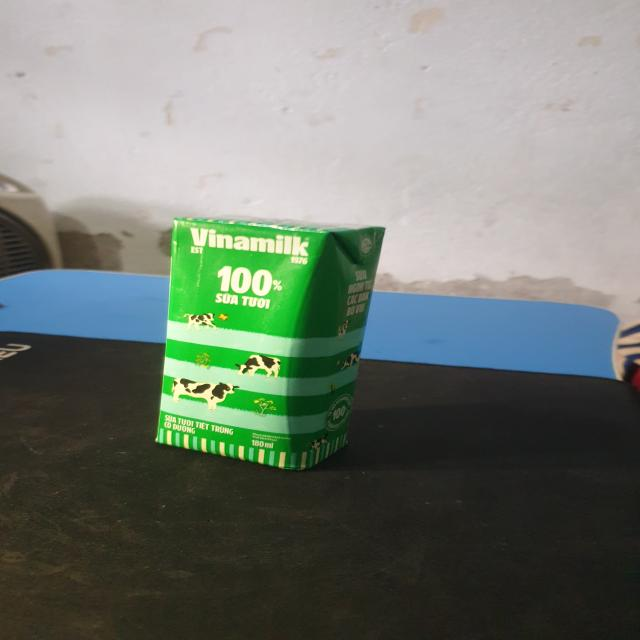Vina: (148, 217, 376, 471)
